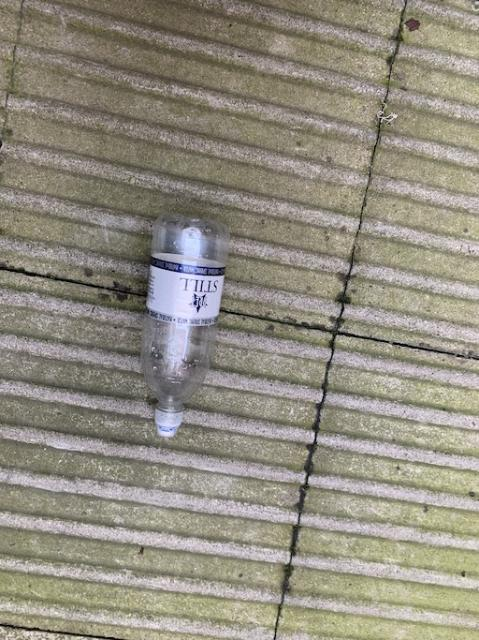plastic: (141, 213, 228, 435)
